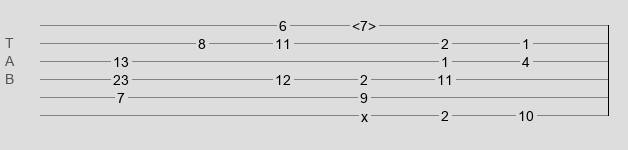1: (441, 54, 449, 64), (522, 36, 530, 46)
10: (518, 108, 534, 118)
11: (275, 36, 291, 46), (437, 72, 453, 82)
12: (275, 72, 291, 82)
13: (113, 54, 129, 64)
2: (360, 72, 368, 82), (441, 108, 449, 118), (441, 36, 449, 46)
23: (113, 72, 129, 82)
4: (522, 54, 530, 64)
6: (279, 18, 287, 28)
7: (117, 90, 125, 100)
8: (198, 36, 206, 46)
9: (360, 90, 368, 100)
harmonic: (352, 18, 376, 28)
x: (361, 109, 368, 117)
